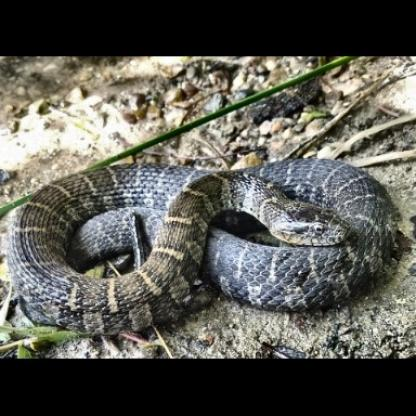Snake: (8, 127, 407, 336)
